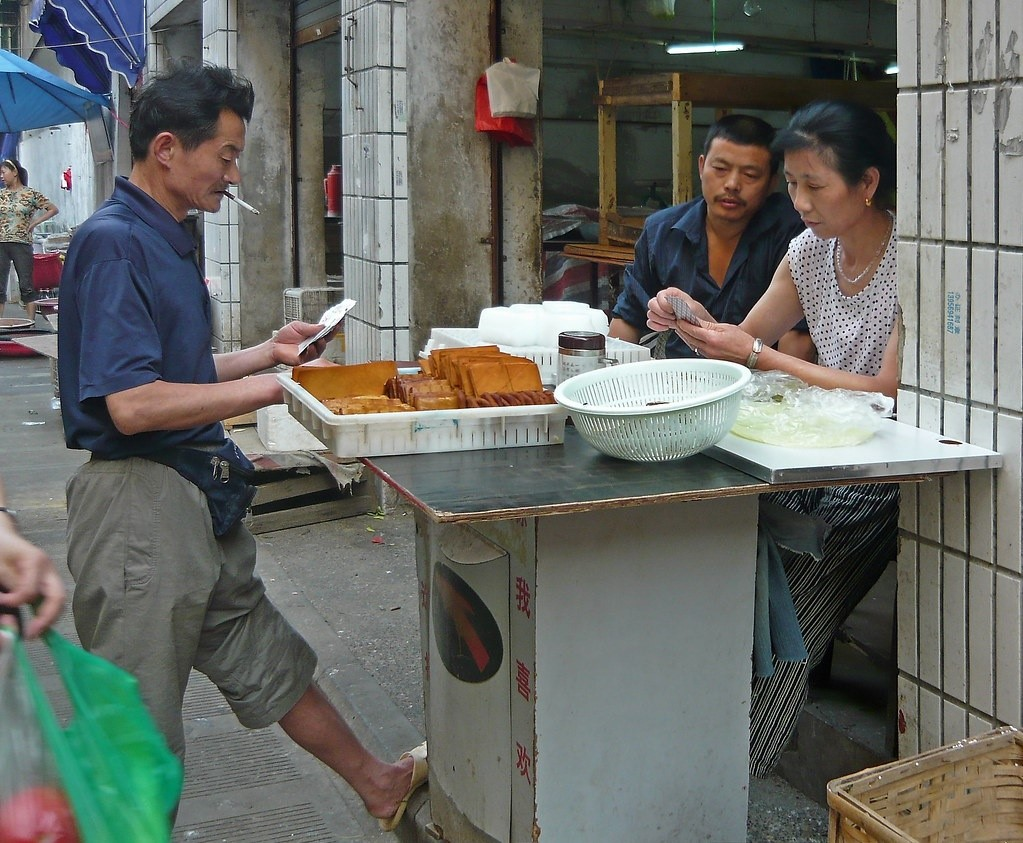face_no_mask: (127, 73, 252, 211), (782, 101, 888, 236), (699, 115, 776, 218)
